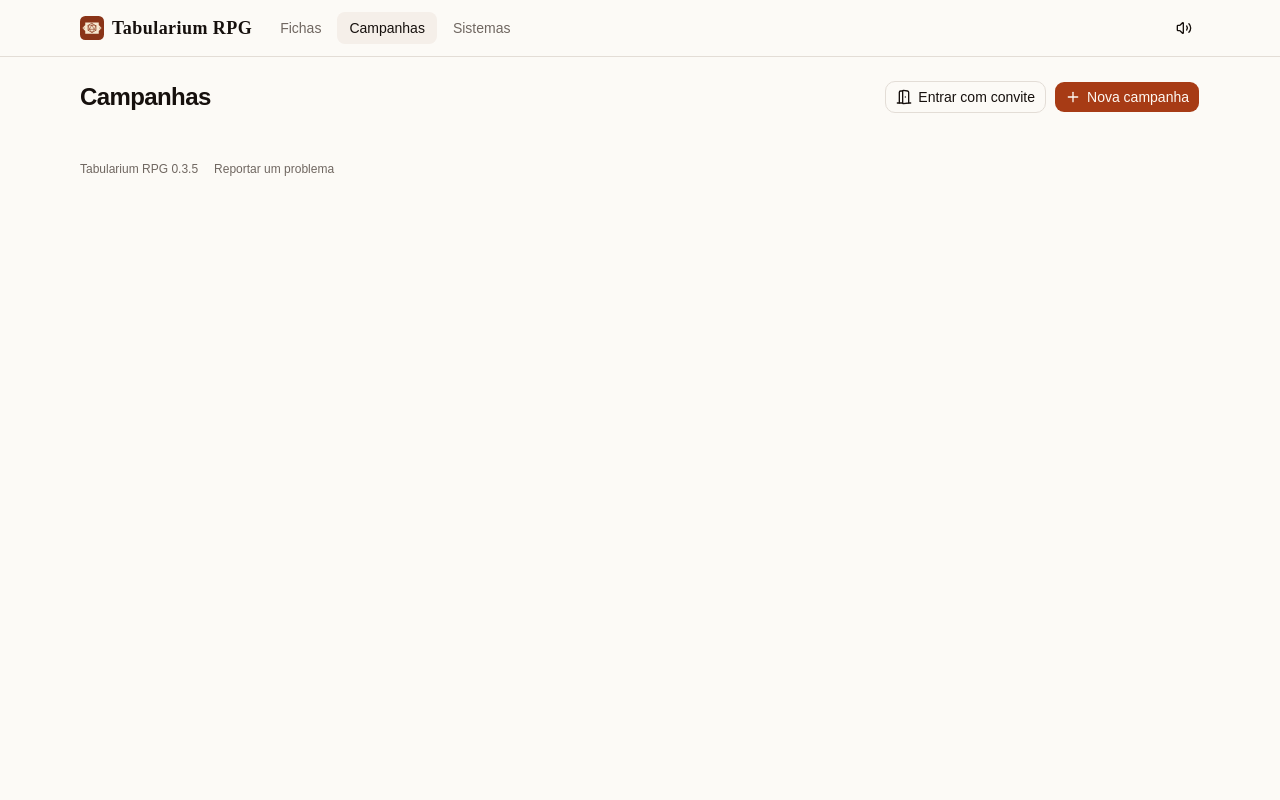
Mestre › a próxima campanha já vem com o nome do Mestre preenchido
Click the button "Nova campanha": (1127, 97) [1054,81,1200,113]
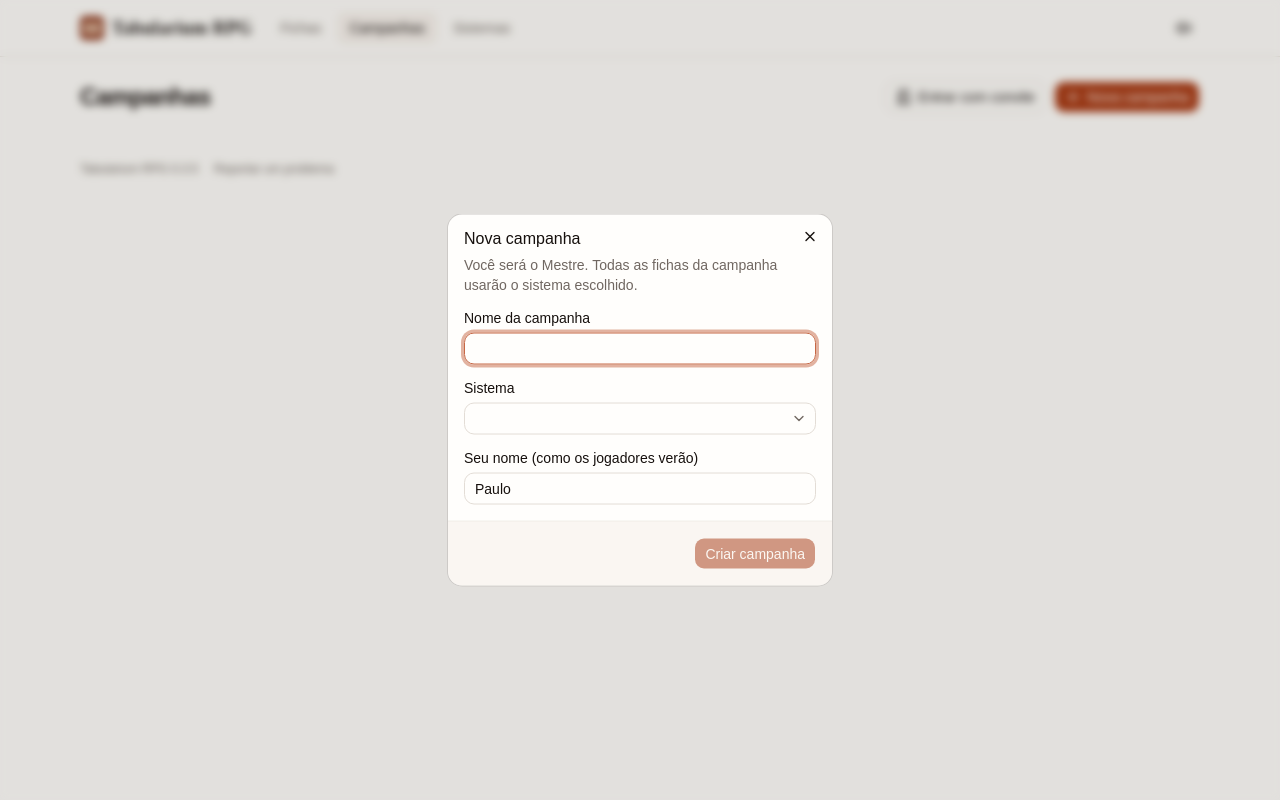
Expected: the field labelled "Seu nome (como os jogadores verão)" holds "Paulo", [464,472,816,504]
